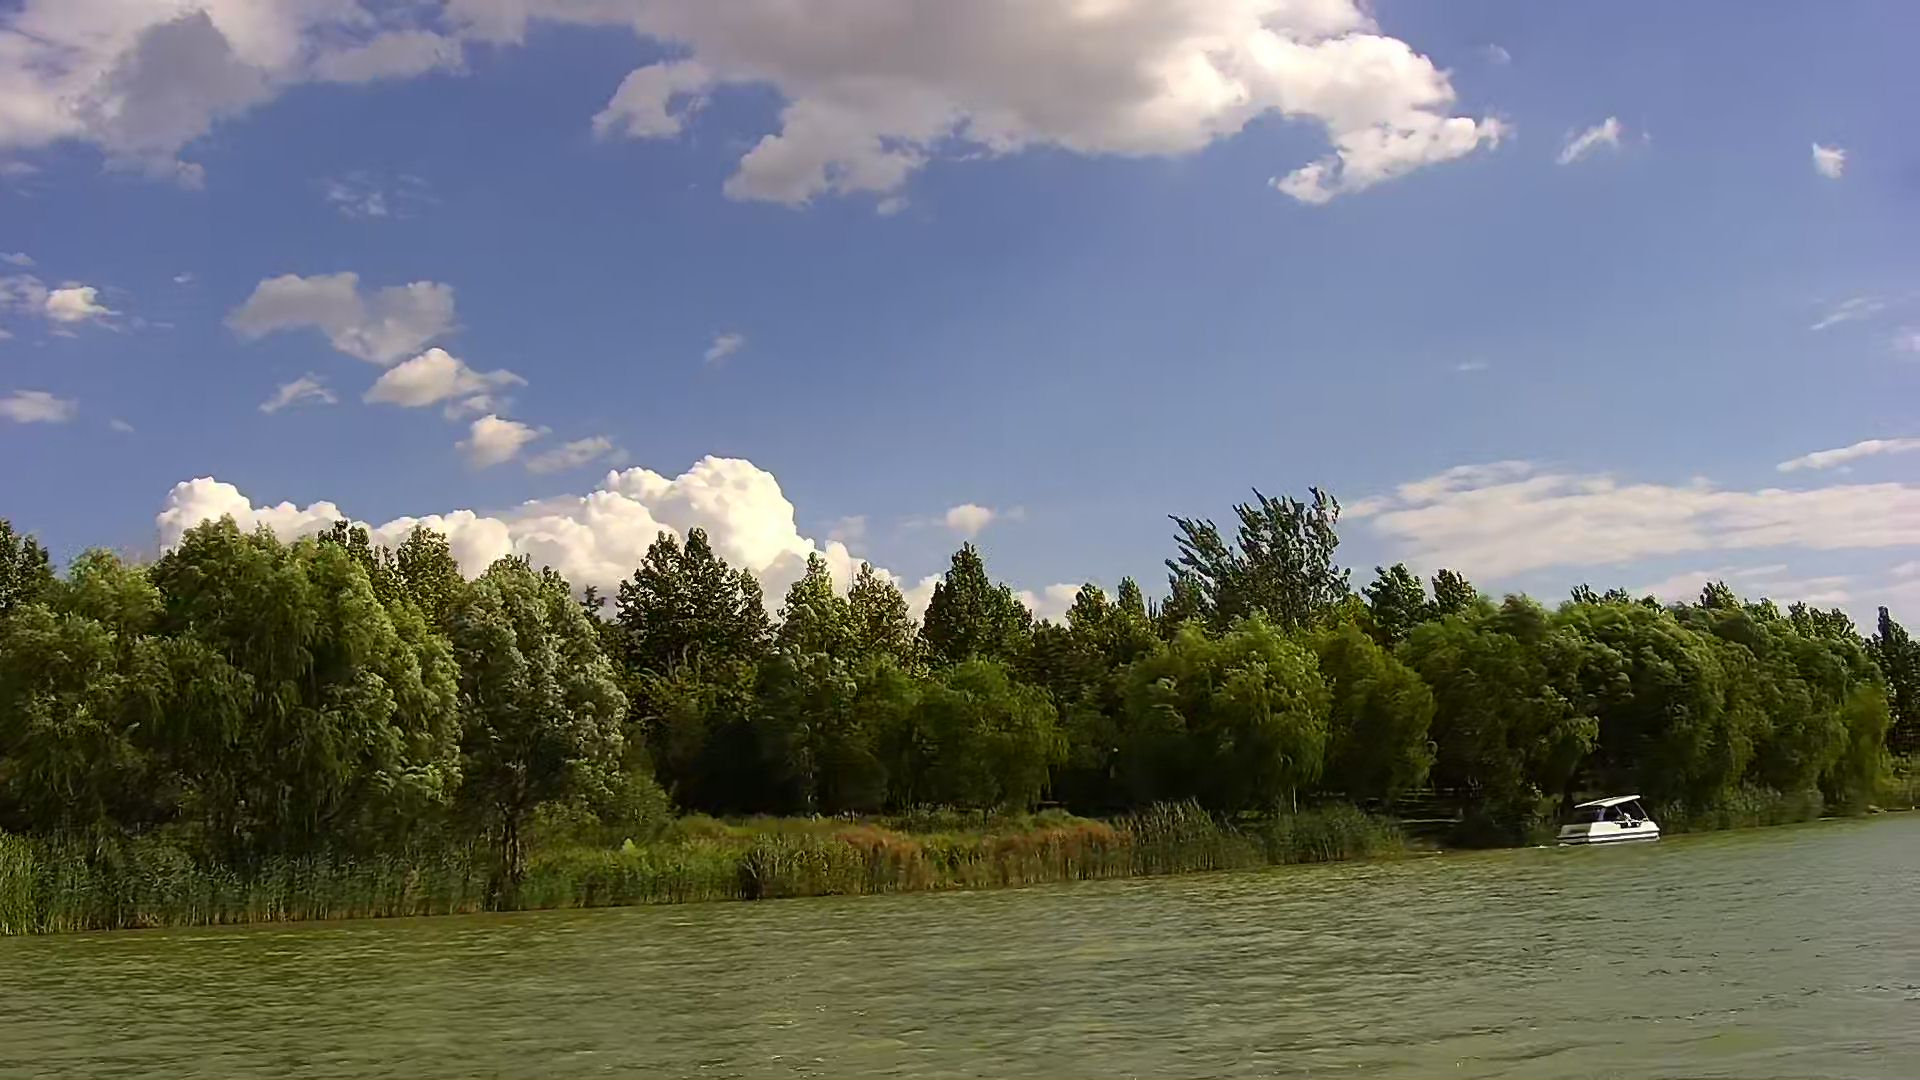boat: (1557, 793, 1659, 847)
